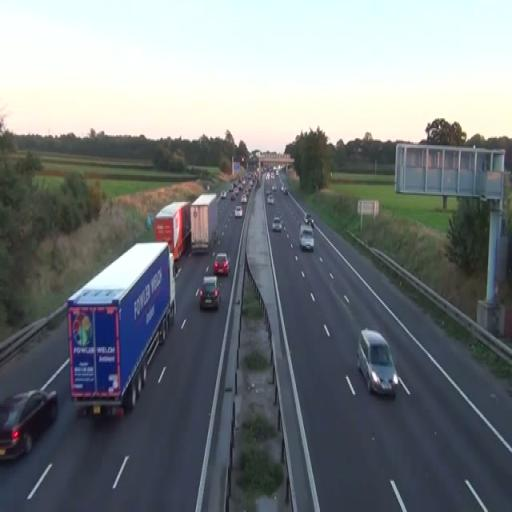Car: (0, 387, 58, 461), (357, 328, 398, 399), (197, 276, 222, 310), (213, 253, 230, 276), (272, 218, 282, 232)
Truck: (67, 241, 176, 420), (154, 200, 191, 264), (190, 193, 218, 255)
